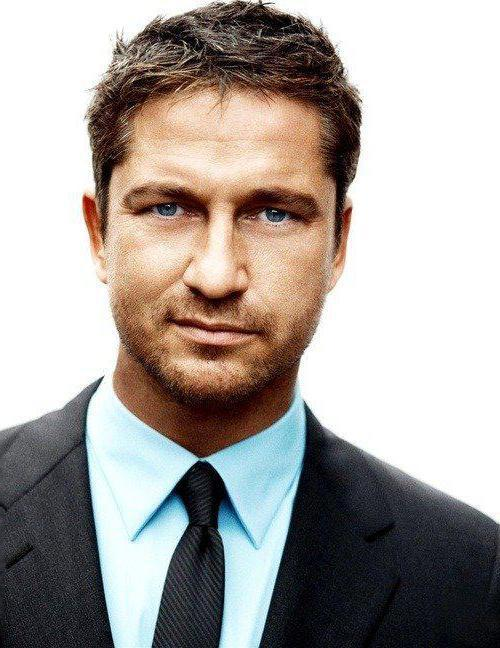Sober: (109, 105, 328, 384)
